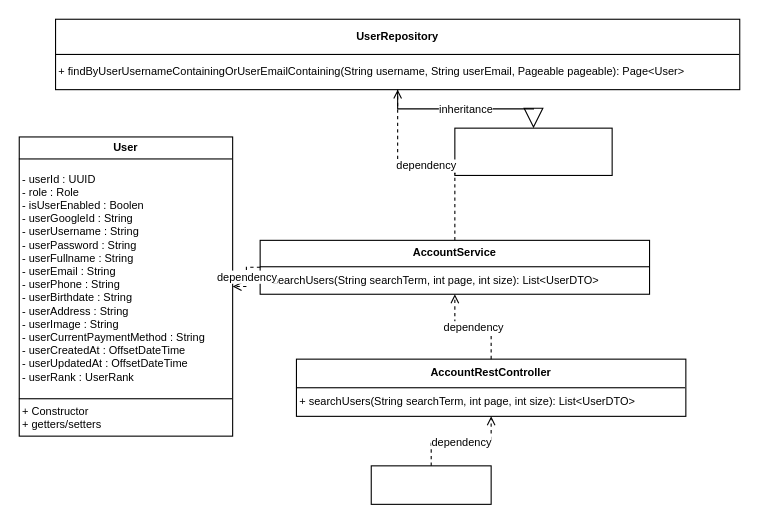
Some shapes in this 759 by 524 pixel diagram are drawn without their labels. The shapes that lost their labels are listed below. From the top down, each one's centre as x and y in pixels, then its label:
(x=533, y=151): JpaRepository
(x=430, y=484): Account View
